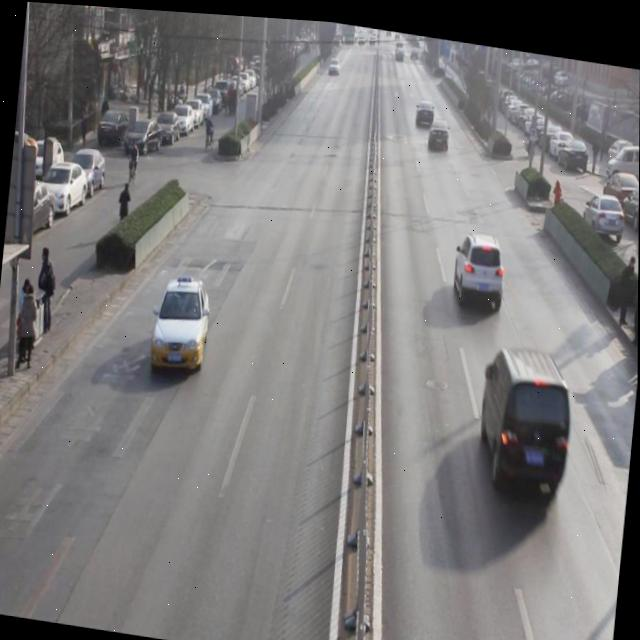car: (151, 265, 214, 375), (448, 223, 510, 308), (414, 91, 439, 130), (427, 109, 449, 150)
truck: (472, 332, 578, 497)
